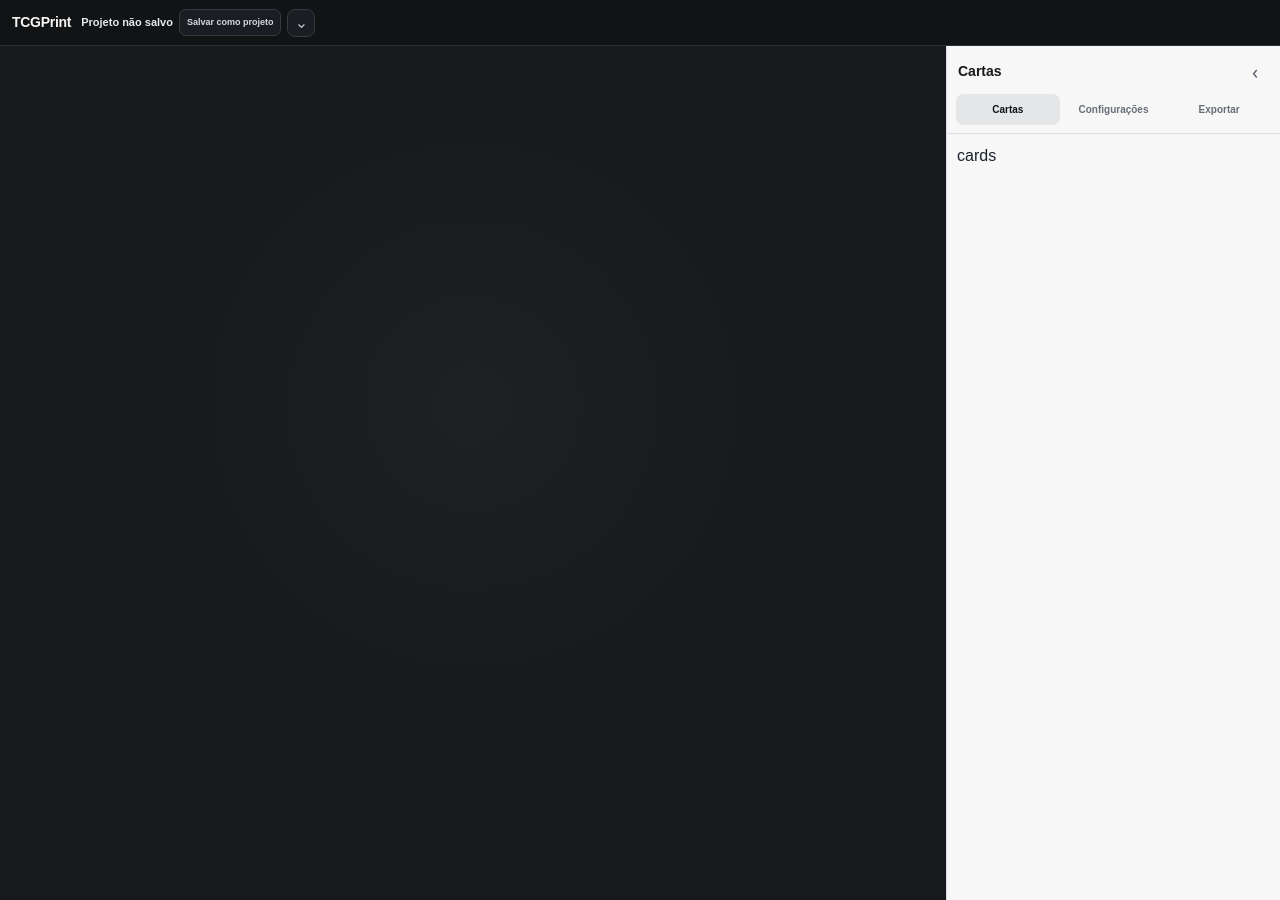
shared Project, template, and cut session in the workspace › shows an unsaved Project in the persistent header and restores menu focus on Escape
Expected: the text "Projeto não salvo" is shown, [81,14,173,31]
Expected: the button "Salvar como projeto" is shown, [179,9,281,36]
Click the button named "Abrir menu do Project".
click(301, 22)  # box [287,8,315,36]
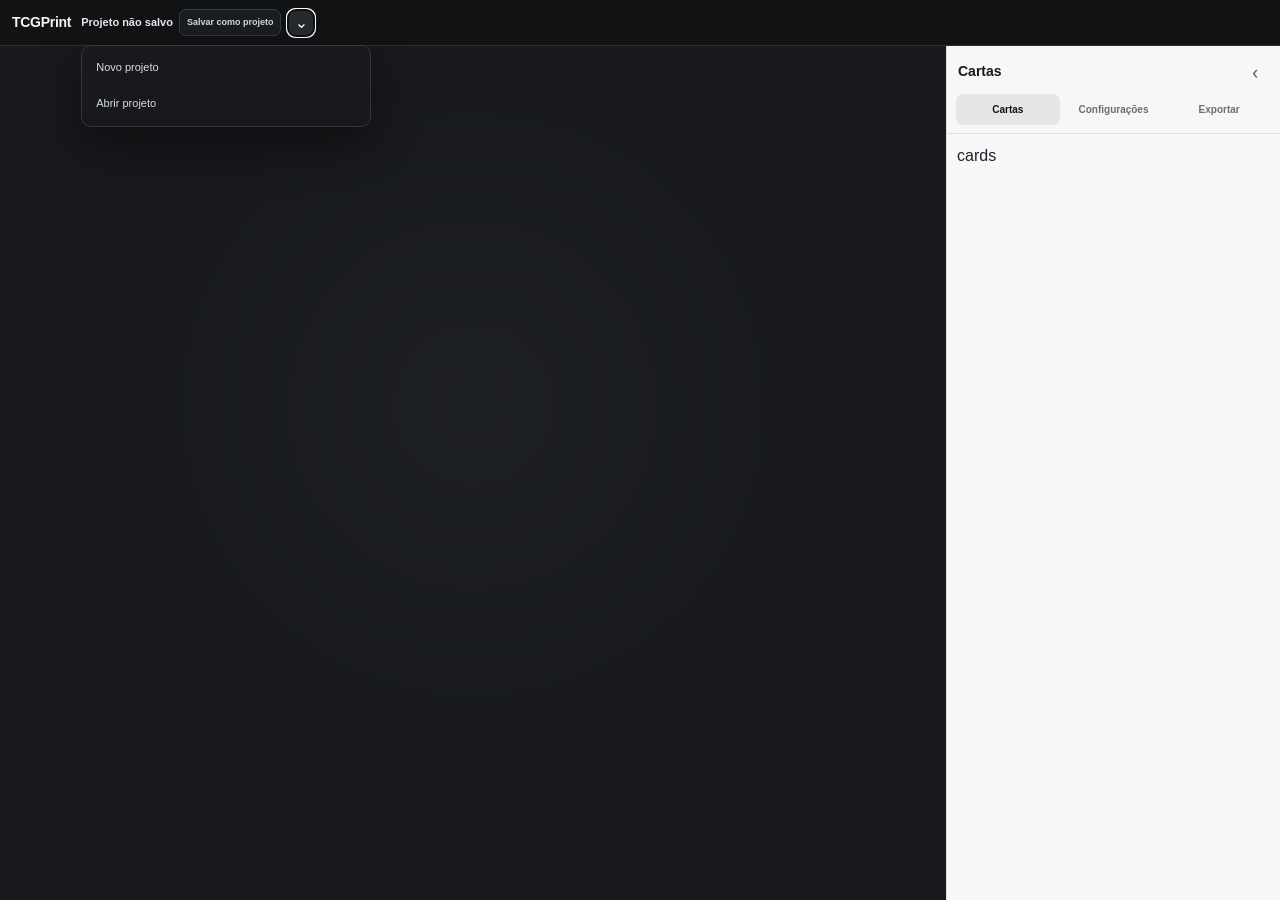
Result: the button "Novo projeto" is shown at [87,50,365,84]
Result: the button "Abrir projeto" is shown at [87,86,365,120]
Press Escape
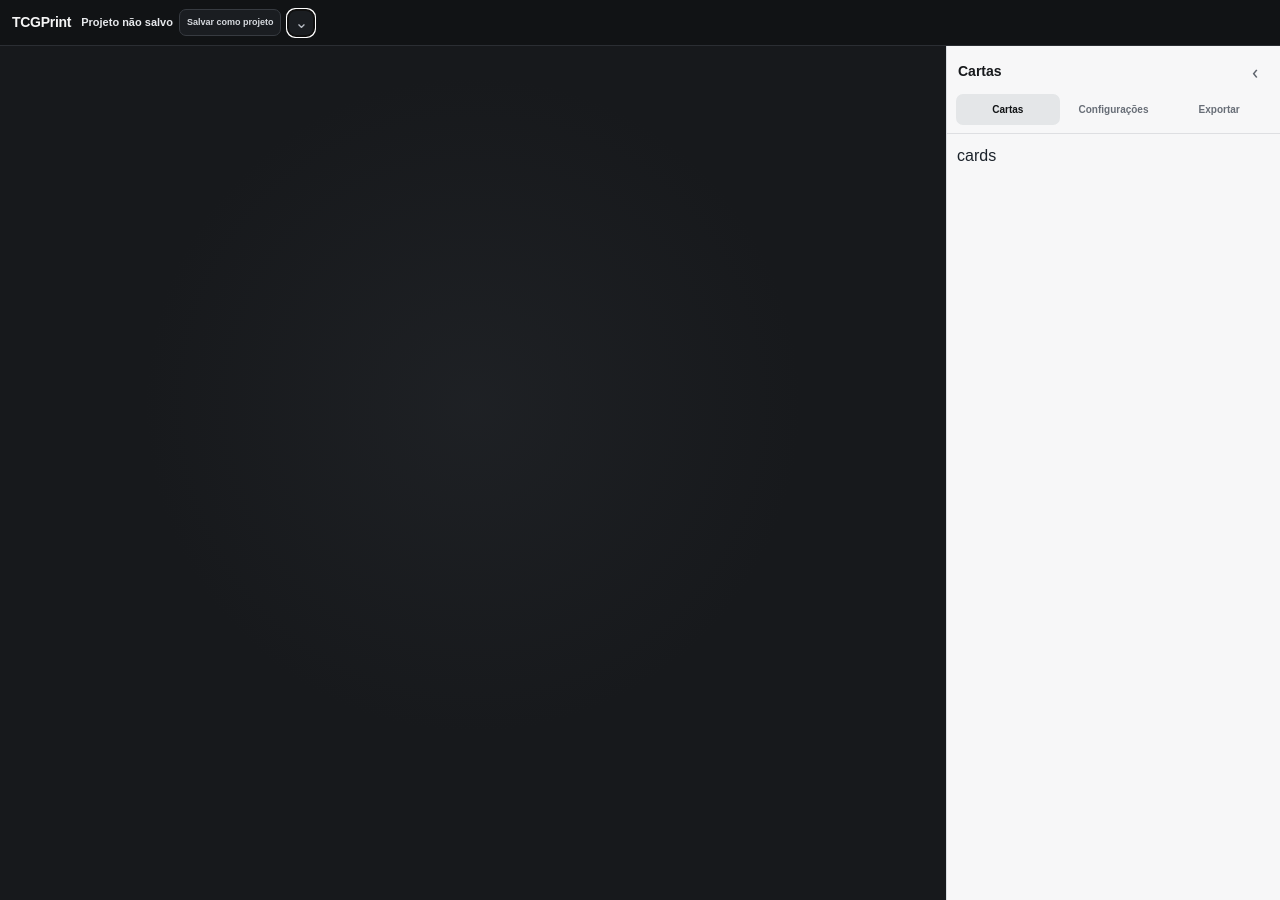
Click the button named "Abrir menu do Project".
click(301, 22)  # box [287,8,315,36]
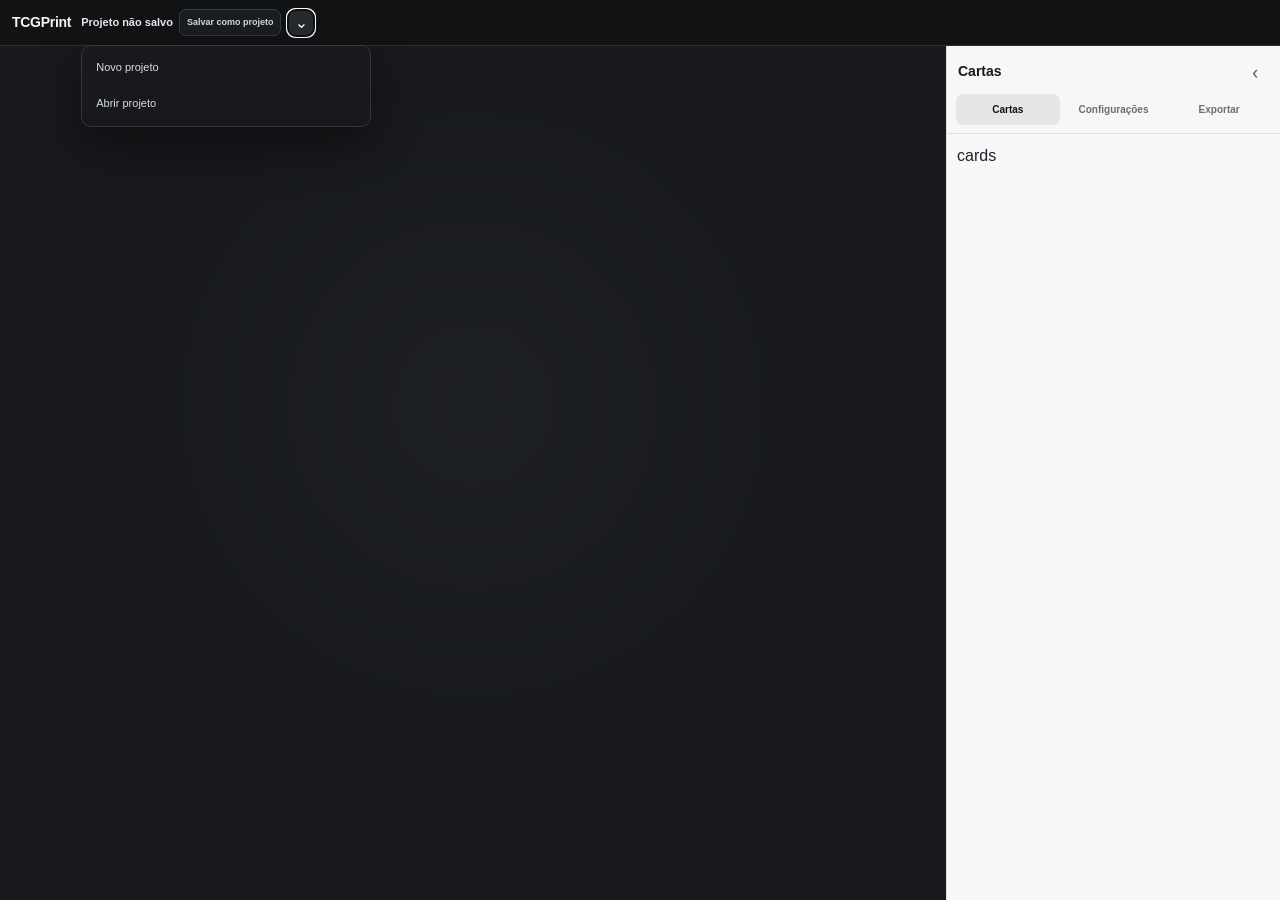
Click the button "Abrir projeto".
click(126, 103)  # box [87,86,365,120]
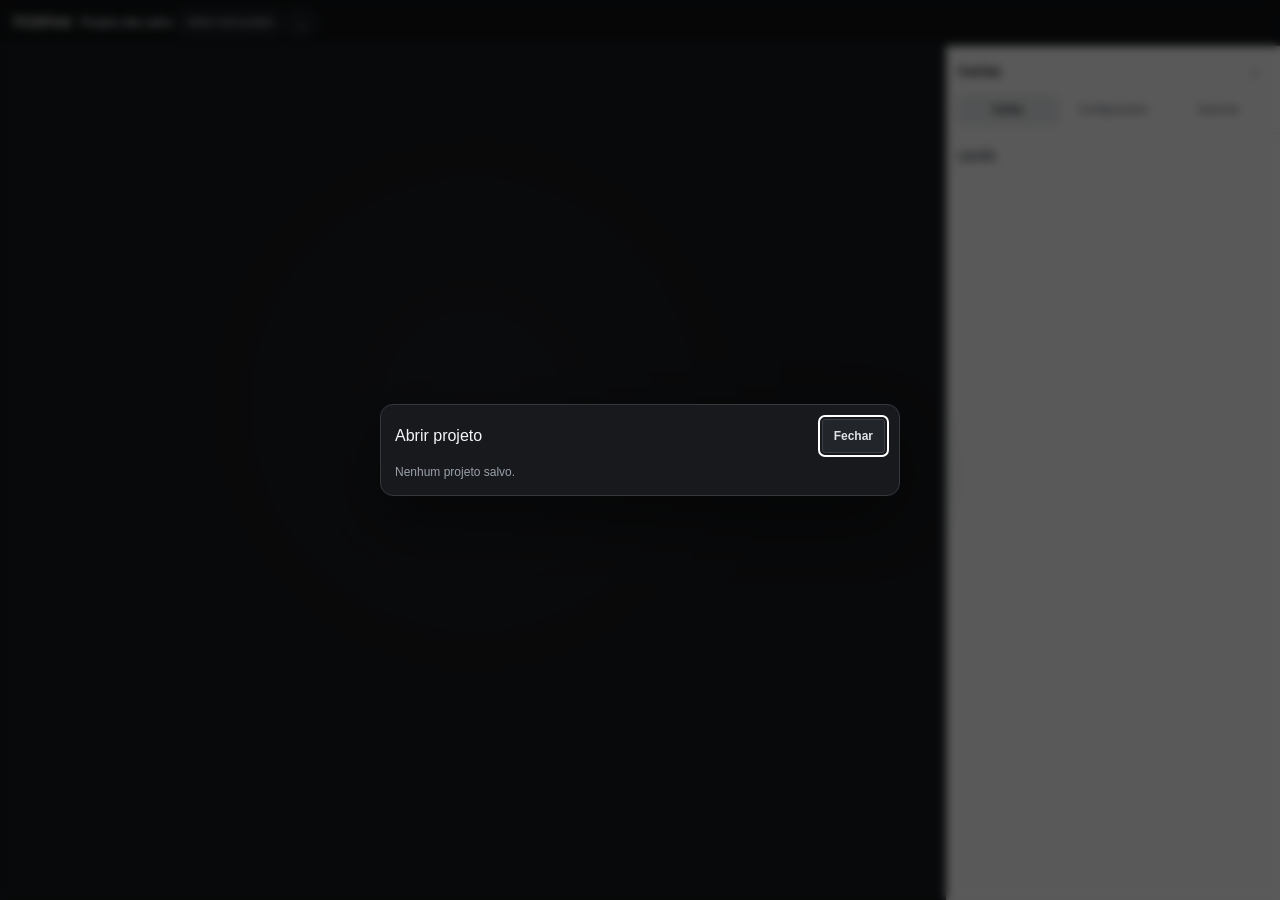
Press Escape
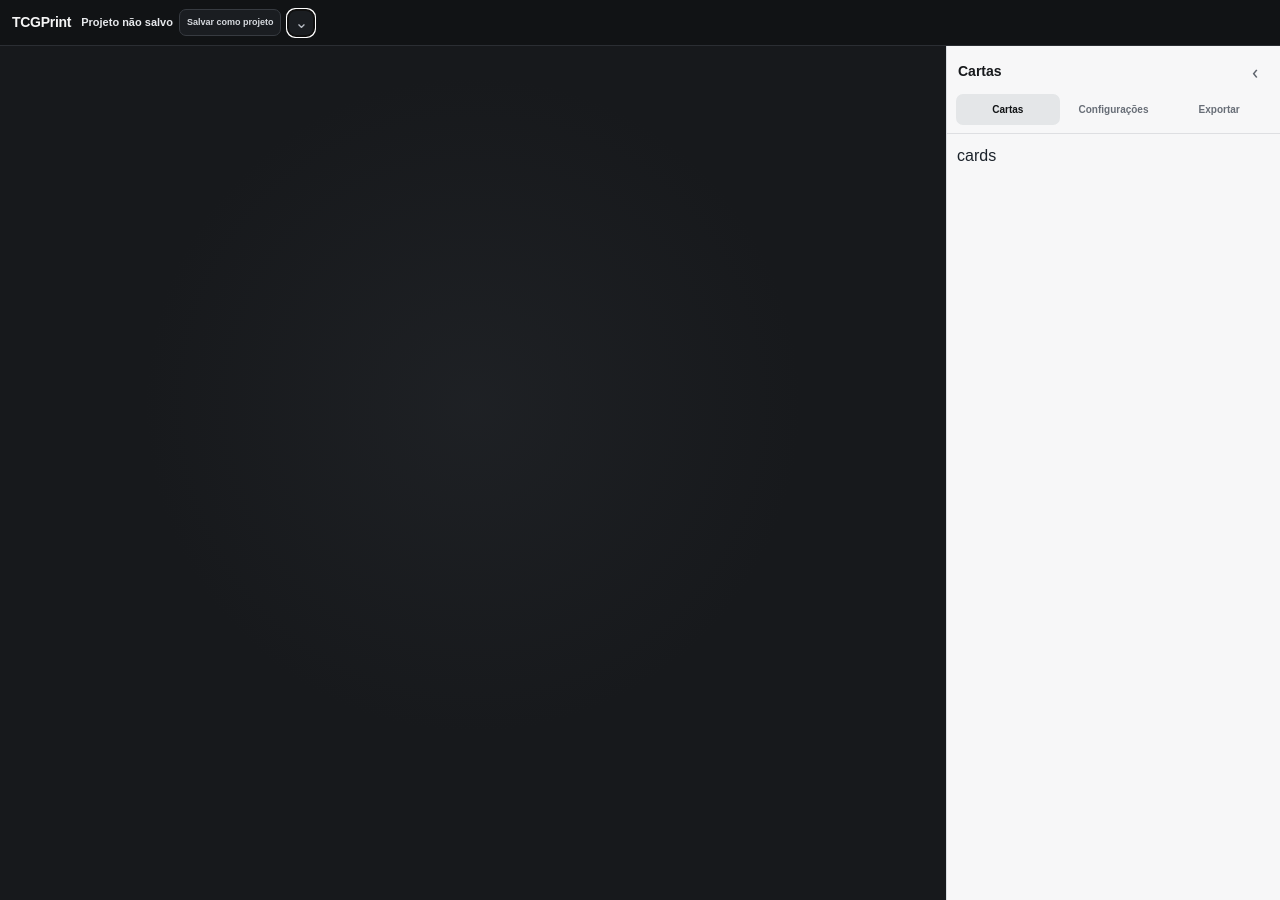
Result: the heading "Abrir projeto" is gone
